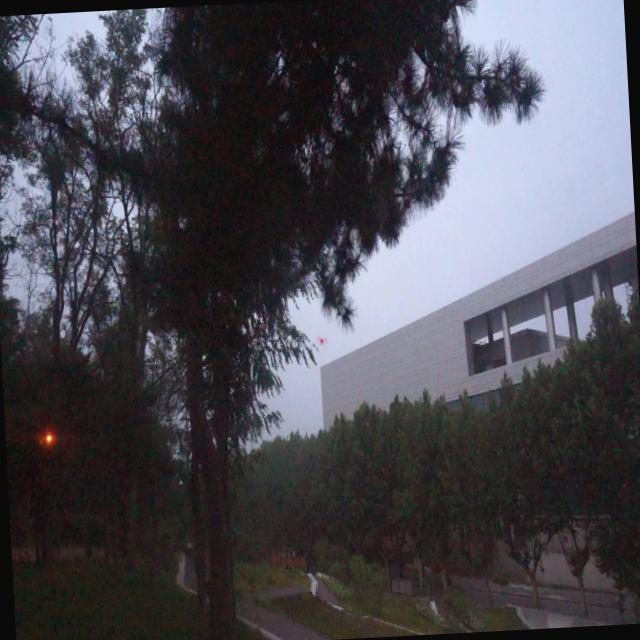drone: (316, 332, 329, 348)
